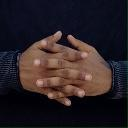hand: (17, 29, 92, 108), (33, 35, 113, 99)
